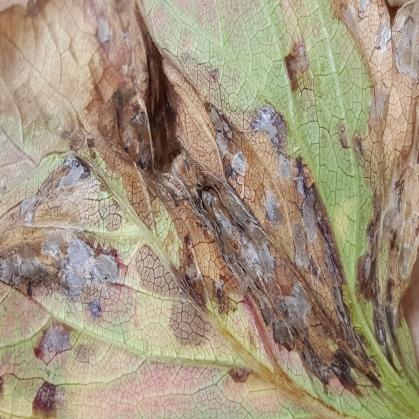Angular Leafspot: (0, 0, 418, 418)
